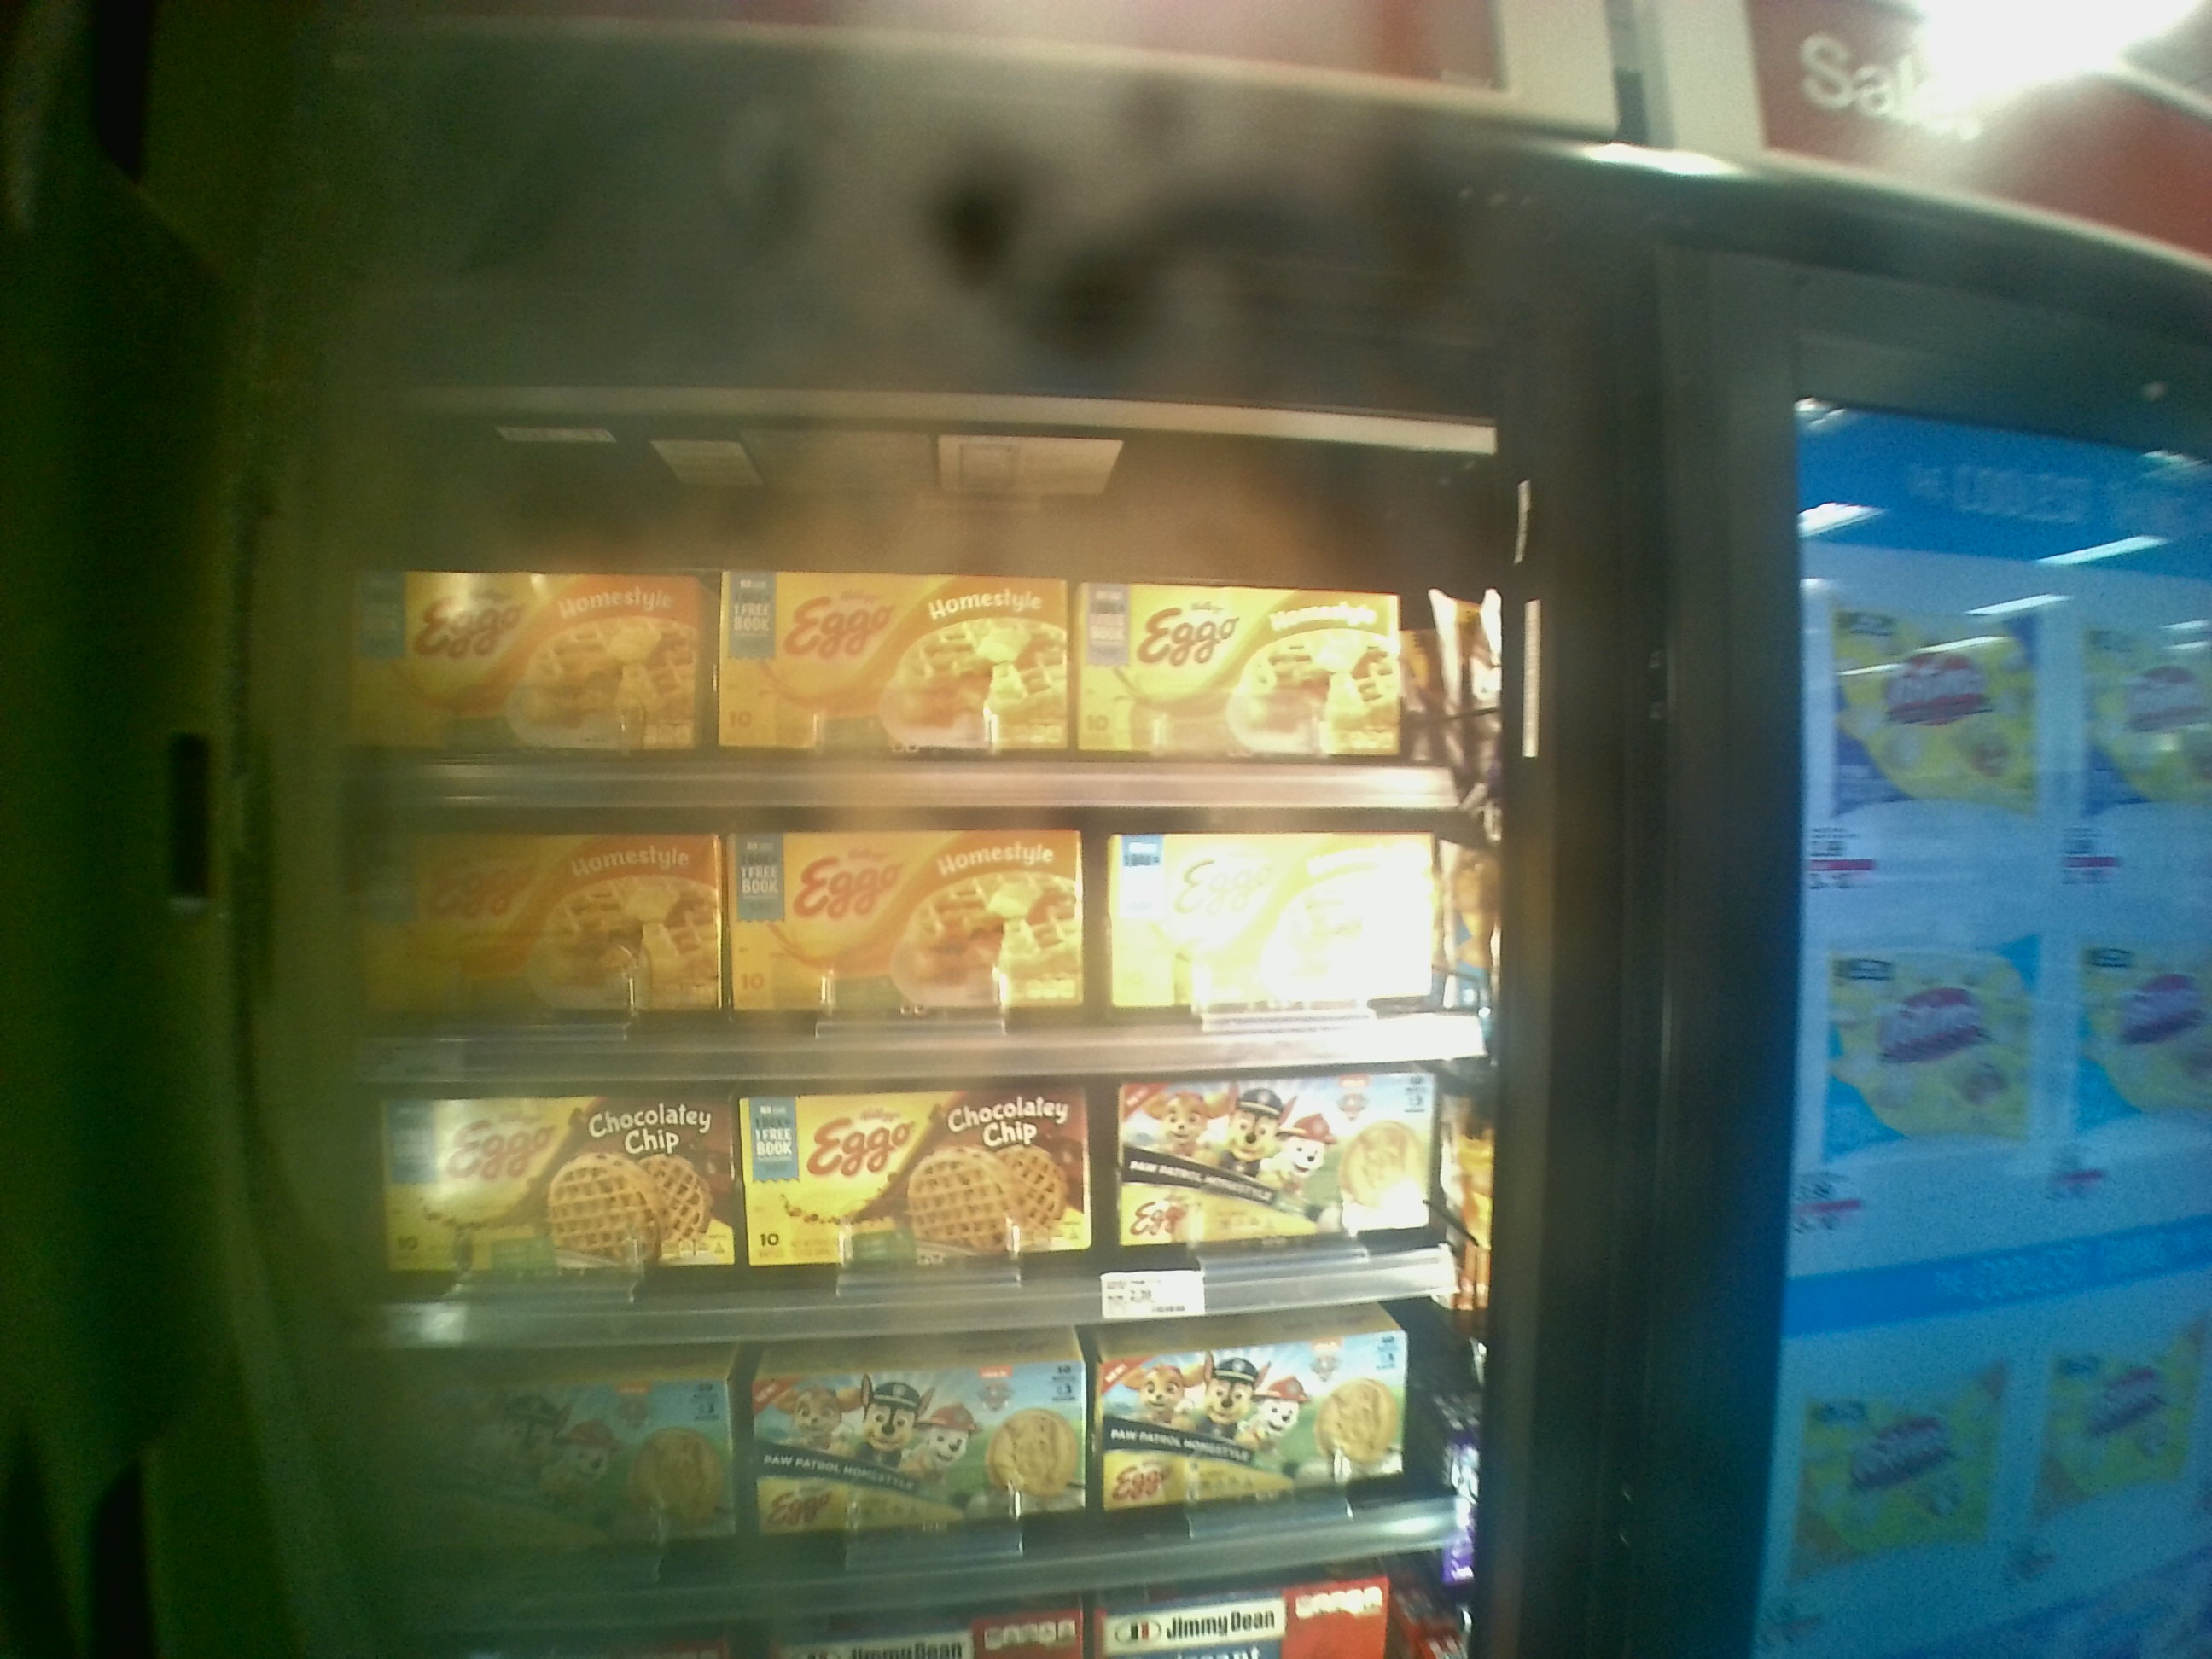shelf: (364, 1058, 1468, 1342)
